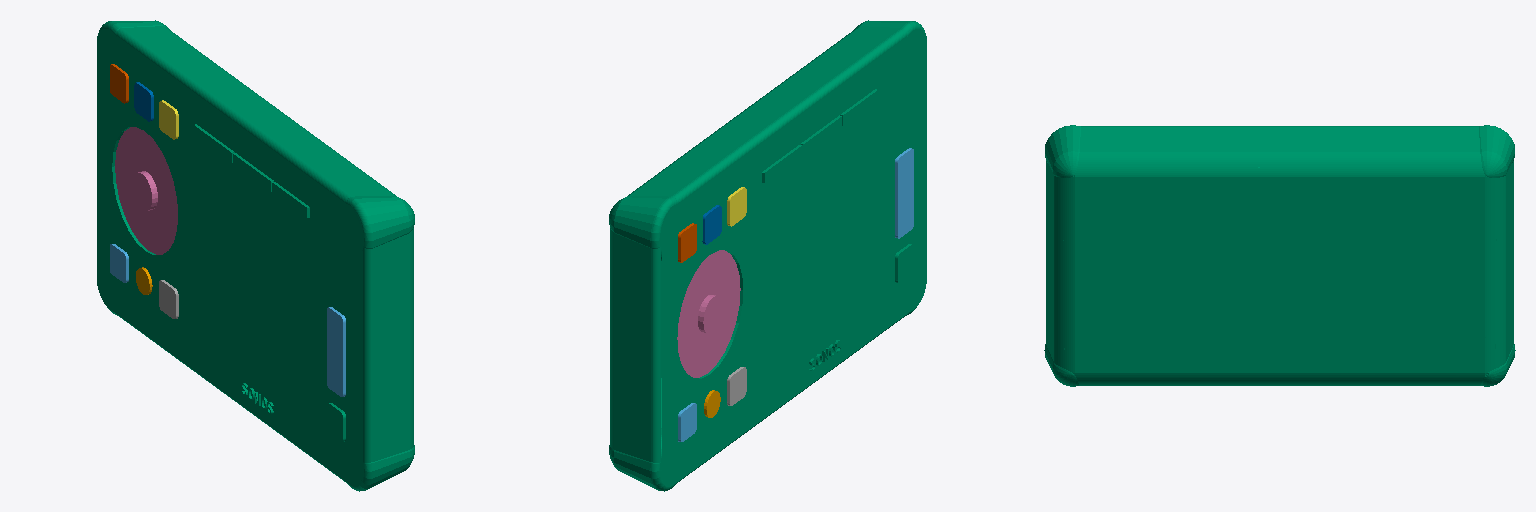
The robot description file, URDF, robot "partnet_49c6003c2248bdd1906ed109a4ea50d6":
<?xml version="1.0" ?>
<robot name="partnet_49c6003c2248bdd1906ed109a4ea50d6">
	<link name="base"/>
	<link name="link_0">
		<visual name="button-2">
			<origin xyz="0 0 0"/>
			<geometry>
				<mesh filename="textured_objs/original-15.obj"/>
			</geometry>
		</visual>
		<collision>
			<origin xyz="0 0 0"/>
			<geometry>
				<mesh filename="textured_objs/original-15.obj"/>
			</geometry>
		</collision>
	</link>
	<joint name="joint_0" type="prismatic">
		<origin xyz="0 0 0"/>
		<axis xyz="0 0 -1"/>
		<child link="link_0"/>
		<parent link="link_9"/>
		<limit lower="0" upper="0.005"/>
	</joint>
	<link name="link_1">
		<visual name="button-3">
			<origin xyz="0 0 0"/>
			<geometry>
				<mesh filename="textured_objs/original-13.obj"/>
			</geometry>
		</visual>
		<collision>
			<origin xyz="0 0 0"/>
			<geometry>
				<mesh filename="textured_objs/original-13.obj"/>
			</geometry>
		</collision>
	</link>
	<joint name="joint_1" type="prismatic">
		<origin xyz="0 0 0"/>
		<axis xyz="0 0 -1"/>
		<child link="link_1"/>
		<parent link="link_9"/>
		<limit lower="0" upper="0.005"/>
	</joint>
	<link name="link_2">
		<visual name="button-4">
			<origin xyz="0 0 0"/>
			<geometry>
				<mesh filename="textured_objs/original-9.obj"/>
			</geometry>
		</visual>
		<collision>
			<origin xyz="0 0 0"/>
			<geometry>
				<mesh filename="textured_objs/original-9.obj"/>
			</geometry>
		</collision>
	</link>
	<joint name="joint_2" type="prismatic">
		<origin xyz="0 0 0"/>
		<axis xyz="0 0 -1"/>
		<child link="link_2"/>
		<parent link="link_9"/>
		<limit lower="0" upper="0.005"/>
	</joint>
	<link name="link_3">
		<visual name="button-5">
			<origin xyz="0 0 0"/>
			<geometry>
				<mesh filename="textured_objs/original-10.obj"/>
			</geometry>
		</visual>
		<collision>
			<origin xyz="0 0 0"/>
			<geometry>
				<mesh filename="textured_objs/original-10.obj"/>
			</geometry>
		</collision>
	</link>
	<joint name="joint_3" type="prismatic">
		<origin xyz="0 0 0"/>
		<axis xyz="0 0 -1"/>
		<child link="link_3"/>
		<parent link="link_9"/>
		<limit lower="0" upper="0.005"/>
	</joint>
	<link name="link_4">
		<visual name="button-6">
			<origin xyz="0 0 0"/>
			<geometry>
				<mesh filename="textured_objs/original-11.obj"/>
			</geometry>
		</visual>
		<collision>
			<origin xyz="0 0 0"/>
			<geometry>
				<mesh filename="textured_objs/original-11.obj"/>
			</geometry>
		</collision>
	</link>
	<joint name="joint_4" type="prismatic">
		<origin xyz="0 0 0"/>
		<axis xyz="0 0 -1"/>
		<child link="link_4"/>
		<parent link="link_9"/>
		<limit lower="0" upper="0.005"/>
	</joint>
	<link name="link_5">
		<visual name="button-7">
			<origin xyz="0.5595827535318045 -0.009602246468195453 0"/>
			<geometry>
				<mesh filename="textured_objs/original-14.obj"/>
			</geometry>
		</visual>
		<collision>
			<origin xyz="0.5595827535318045 -0.009602246468195453 0"/>
			<geometry>
				<mesh filename="textured_objs/original-14.obj"/>
			</geometry>
		</collision>
	</link>
	<joint name="joint_5" type="continuous">
		<origin xyz="-0.5595827535318045 0.009602246468195453 0"/>
		<axis xyz="0 0 1"/>
		<child link="link_5"/>
		<parent link="link_9"/>
	</joint>
	<link name="link_6">
		<visual name="button-8">
			<origin xyz="0 0 0"/>
			<geometry>
				<mesh filename="textured_objs/original-17.obj"/>
			</geometry>
		</visual>
		<collision>
			<origin xyz="0 0 0"/>
			<geometry>
				<mesh filename="textured_objs/original-17.obj"/>
			</geometry>
		</collision>
	</link>
	<joint name="joint_6" type="prismatic">
		<origin xyz="0 0 0"/>
		<axis xyz="0 0 -1"/>
		<child link="link_6"/>
		<parent link="link_9"/>
		<limit lower="0" upper="0.005"/>
	</joint>
	<link name="link_7">
		<visual name="button-9">
			<origin xyz="0 0 0"/>
			<geometry>
				<mesh filename="textured_objs/original-18.obj"/>
			</geometry>
		</visual>
		<collision>
			<origin xyz="0 0 0"/>
			<geometry>
				<mesh filename="textured_objs/original-18.obj"/>
			</geometry>
		</collision>
	</link>
	<joint name="joint_7" type="prismatic">
		<origin xyz="0 0 0"/>
		<axis xyz="0 0 -1"/>
		<child link="link_7"/>
		<parent link="link_9"/>
		<limit lower="0" upper="0.005"/>
	</joint>
	<link name="link_8">
		<visual name="button-10">
			<origin xyz="0 0 0"/>
			<geometry>
				<mesh filename="textured_objs/original-16.obj"/>
			</geometry>
		</visual>
		<collision>
			<origin xyz="0 0 0"/>
			<geometry>
				<mesh filename="textured_objs/original-16.obj"/>
			</geometry>
		</collision>
	</link>
	<joint name="joint_8" type="prismatic">
		<origin xyz="0 0 0"/>
		<axis xyz="0 0 -1"/>
		<child link="link_8"/>
		<parent link="link_9"/>
		<limit lower="0" upper="0.005"/>
	</joint>
	<link name="link_9">
		<visual name="base_body-11">
			<origin xyz="0 0 0"/>
			<geometry>
				<mesh filename="textured_objs/original-21.obj"/>
			</geometry>
		</visual>
		<visual name="base_body-11">
			<origin xyz="0 0 0"/>
			<geometry>
				<mesh filename="textured_objs/original-22.obj"/>
			</geometry>
		</visual>
		<visual name="base_body-11">
			<origin xyz="0 0 0"/>
			<geometry>
				<mesh filename="textured_objs/original-4.obj"/>
			</geometry>
		</visual>
		<visual name="base_body-11">
			<origin xyz="0 0 0"/>
			<geometry>
				<mesh filename="textured_objs/original-3.obj"/>
			</geometry>
		</visual>
		<visual name="base_body-11">
			<origin xyz="0 0 0"/>
			<geometry>
				<mesh filename="textured_objs/original-2.obj"/>
			</geometry>
		</visual>
		<visual name="base_body-11">
			<origin xyz="0 0 0"/>
			<geometry>
				<mesh filename="textured_objs/original-5.obj"/>
			</geometry>
		</visual>
		<visual name="base_body-11">
			<origin xyz="0 0 0"/>
			<geometry>
				<mesh filename="textured_objs/original-6.obj"/>
			</geometry>
		</visual>
		<visual name="base_body-11">
			<origin xyz="0 0 0"/>
			<geometry>
				<mesh filename="textured_objs/original-23.obj"/>
			</geometry>
		</visual>
		<visual name="base_body-11">
			<origin xyz="0 0 0"/>
			<geometry>
				<mesh filename="textured_objs/original-12.obj"/>
			</geometry>
		</visual>
		<visual name="base_body-11">
			<origin xyz="0 0 0"/>
			<geometry>
				<mesh filename="textured_objs/original-24.obj"/>
			</geometry>
		</visual>
		<visual name="base_body-11">
			<origin xyz="0 0 0"/>
			<geometry>
				<mesh filename="textured_objs/original-20.obj"/>
			</geometry>
		</visual>
		<visual name="base_body-11">
			<origin xyz="0 0 0"/>
			<geometry>
				<mesh filename="textured_objs/original-19.obj"/>
			</geometry>
		</visual>
		<collision>
			<origin xyz="0 0 0"/>
			<geometry>
				<mesh filename="textured_objs/original-21.obj"/>
			</geometry>
		</collision>
		<collision>
			<origin xyz="0 0 0"/>
			<geometry>
				<mesh filename="textured_objs/original-22.obj"/>
			</geometry>
		</collision>
		<collision>
			<origin xyz="0 0 0"/>
			<geometry>
				<mesh filename="textured_objs/original-4.obj"/>
			</geometry>
		</collision>
		<collision>
			<origin xyz="0 0 0"/>
			<geometry>
				<mesh filename="textured_objs/original-3.obj"/>
			</geometry>
		</collision>
		<collision>
			<origin xyz="0 0 0"/>
			<geometry>
				<mesh filename="textured_objs/original-2.obj"/>
			</geometry>
		</collision>
		<collision>
			<origin xyz="0 0 0"/>
			<geometry>
				<mesh filename="textured_objs/original-5.obj"/>
			</geometry>
		</collision>
		<collision>
			<origin xyz="0 0 0"/>
			<geometry>
				<mesh filename="textured_objs/original-6.obj"/>
			</geometry>
		</collision>
		<collision>
			<origin xyz="0 0 0"/>
			<geometry>
				<mesh filename="textured_objs/original-23.obj"/>
			</geometry>
		</collision>
		<collision>
			<origin xyz="0 0 0"/>
			<geometry>
				<mesh filename="textured_objs/original-12.obj"/>
			</geometry>
		</collision>
		<collision>
			<origin xyz="0 0 0"/>
			<geometry>
				<mesh filename="textured_objs/original-24.obj"/>
			</geometry>
		</collision>
		<collision>
			<origin xyz="0 0 0"/>
			<geometry>
				<mesh filename="textured_objs/original-20.obj"/>
			</geometry>
		</collision>
		<collision>
			<origin xyz="0 0 0"/>
			<geometry>
				<mesh filename="textured_objs/original-19.obj"/>
			</geometry>
		</collision>
	</link>
	<joint name="joint_9" type="fixed">
		<origin rpy="1.570796326794897 0 -1.570796326794897" xyz="0 0 0"/>
		<child link="link_9"/>
		<parent link="base"/>
	</joint>
</robot>

--- Render facts (derived) ---
Views: 3 orthographic renders of the robot side by side, from view 1: azimuth 30°, elevation 25°; view 2: azimuth 150°, elevation 25°; view 3: azimuth 270°, elevation 25°.
Robot: partnet_49c6003c2248bdd1906ed109a4ea50d6 — 11 links, 10 joints (1 continuous, 8 prismatic, 1 fixed); root link base; default pose: every joint at zero.
Visible links, largest first — view 1: link_9, link_5, link_0, link_3, link_2, link_6, link_1, link_4, link_8; view 2: link_9, link_5, link_0, link_2, link_6, link_1, link_3, link_4, link_8; view 3: link_9.
Boxes of the visible links, x1,y1,x2,y2 form: link_9: (97, 20, 414, 491); link_5: (115, 127, 177, 254); link_0: (327, 307, 345, 396); link_3: (134, 82, 153, 121); link_2: (159, 100, 178, 139); link_6: (159, 280, 178, 318); link_1: (327, 403, 345, 441); link_4: (110, 64, 128, 103); link_8: (110, 244, 128, 282); link_9: (609, 20, 926, 491); link_5: (677, 250, 740, 377); link_0: (895, 148, 913, 238); link_2: (727, 187, 746, 226); link_6: (727, 367, 746, 405); link_1: (895, 244, 913, 283); link_3: (702, 205, 721, 244); link_4: (678, 223, 696, 262); link_8: (678, 403, 696, 441); link_9: (1044, 125, 1515, 386).
Size in the robot's own frame: 0.249 by 1.75 by 1.03 metres.
21 mesh visuals loaded from 21 distinct referenced files (21 OBJ).